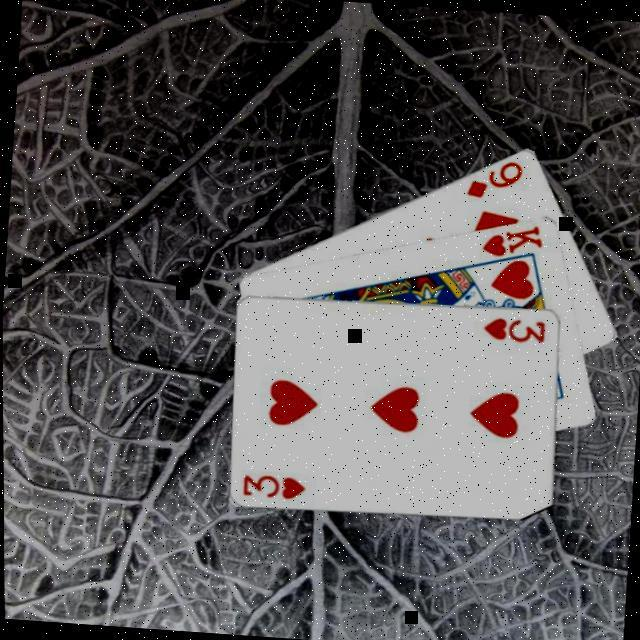3H: (240, 470, 310, 504), (481, 314, 549, 348)
9D: (464, 156, 527, 206)
KH: (479, 220, 548, 264)
